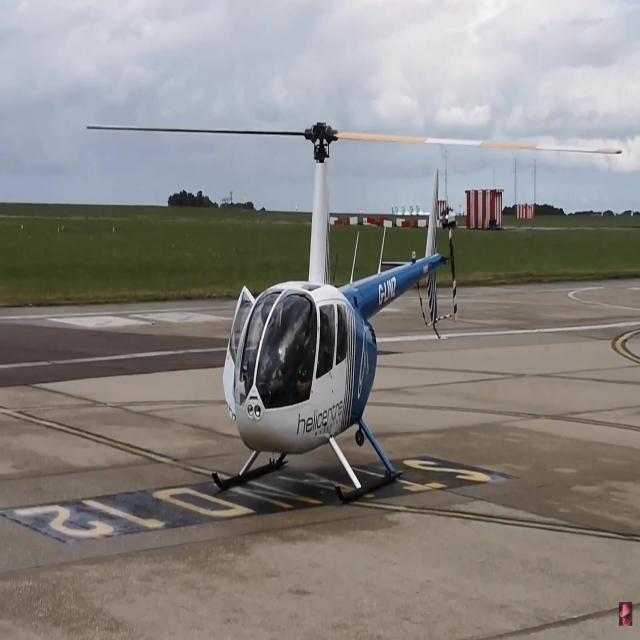CIV_HELO: (210, 120, 449, 505)
